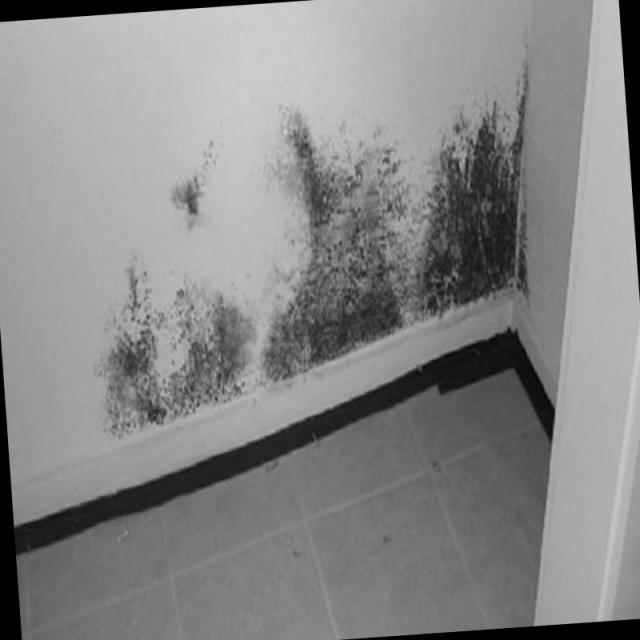stain marks: (56, 38, 544, 448)
